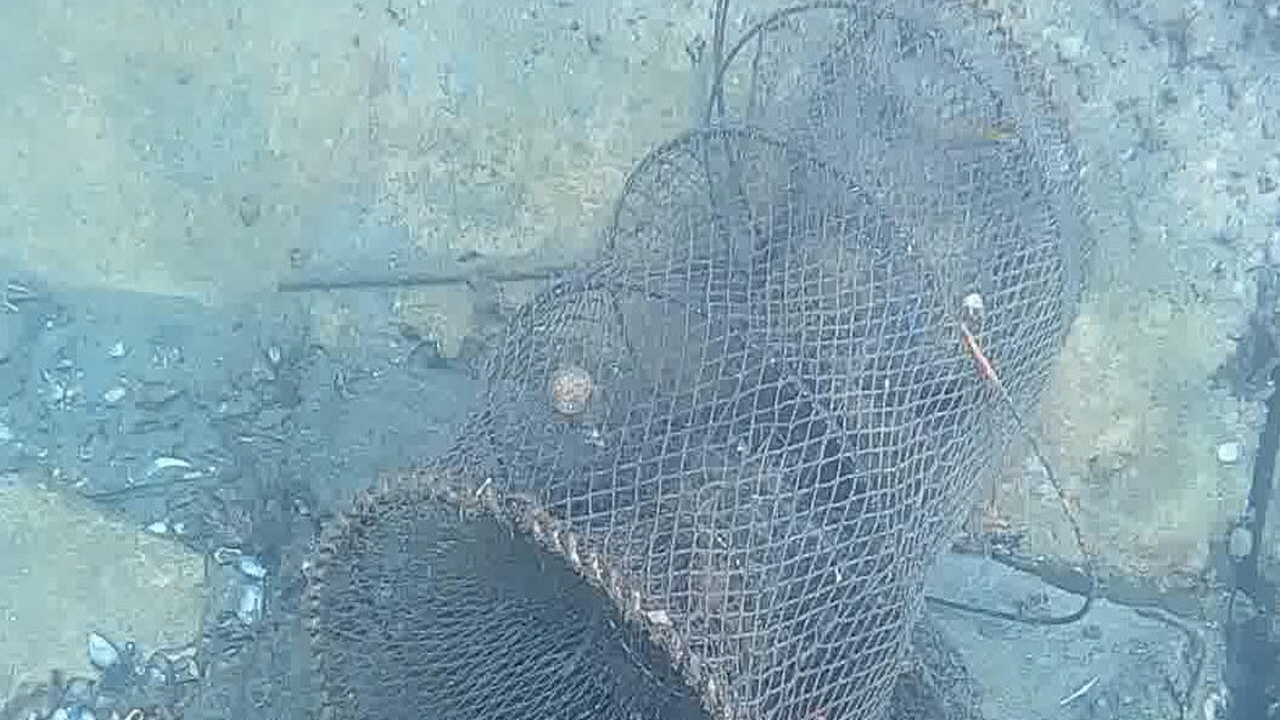spring fish trap: (307, 2, 1094, 720)
